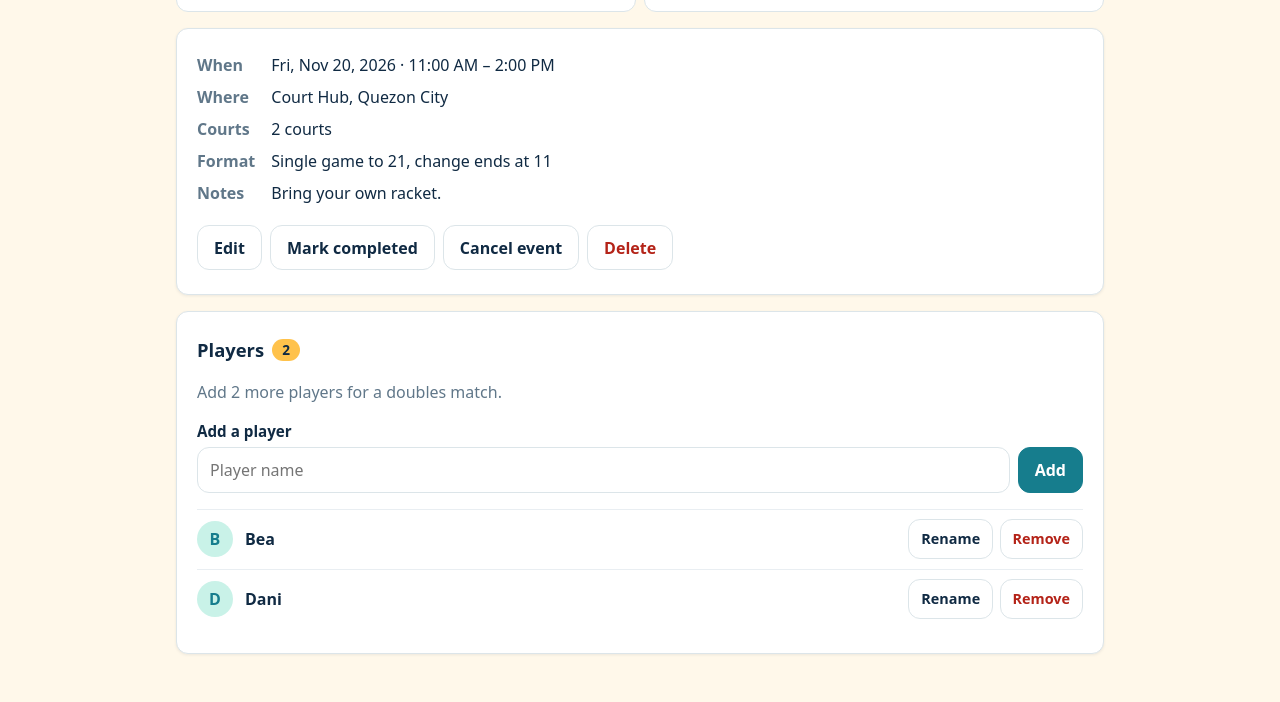
Players on the event page › adds a player and keeps the box ready for the next name
The width and height of the screenshot is (1280, 702).
(page scrolled)
Expected: the text "Bea" is shown, [245,528,275,550]
In the field labelled "Add a player": [603, 470] box [197,447,1010,492], type "Carlo"
Then press Enter
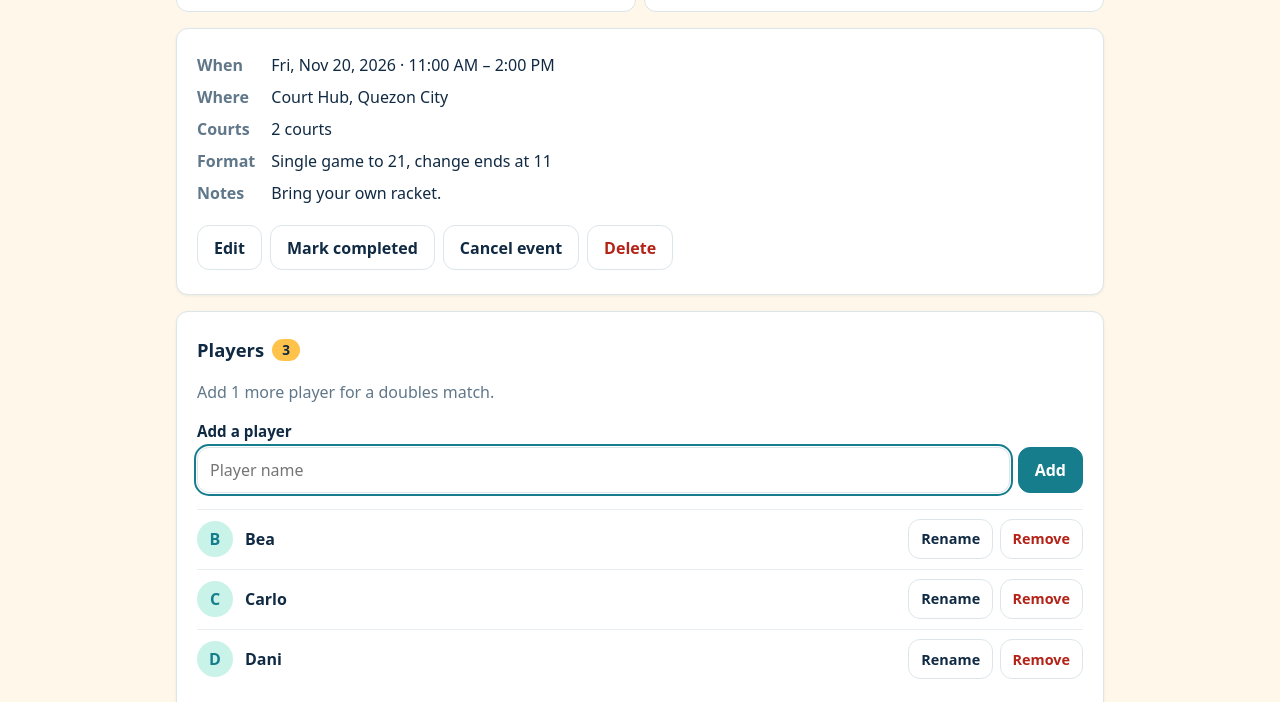
Expected: the text "Carlo" is shown, [245,588,287,610]
Expected: the text "Add 1 more player for a doubles match." is shown, [197,381,494,403]
